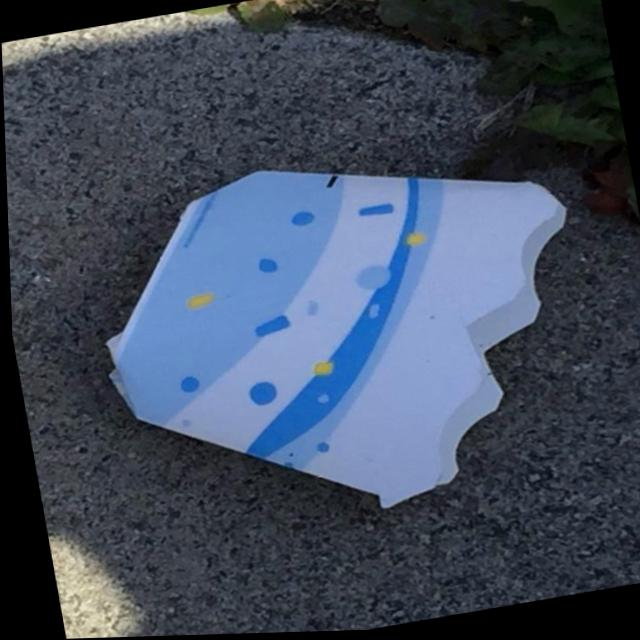Paper: (70, 116, 617, 555)
